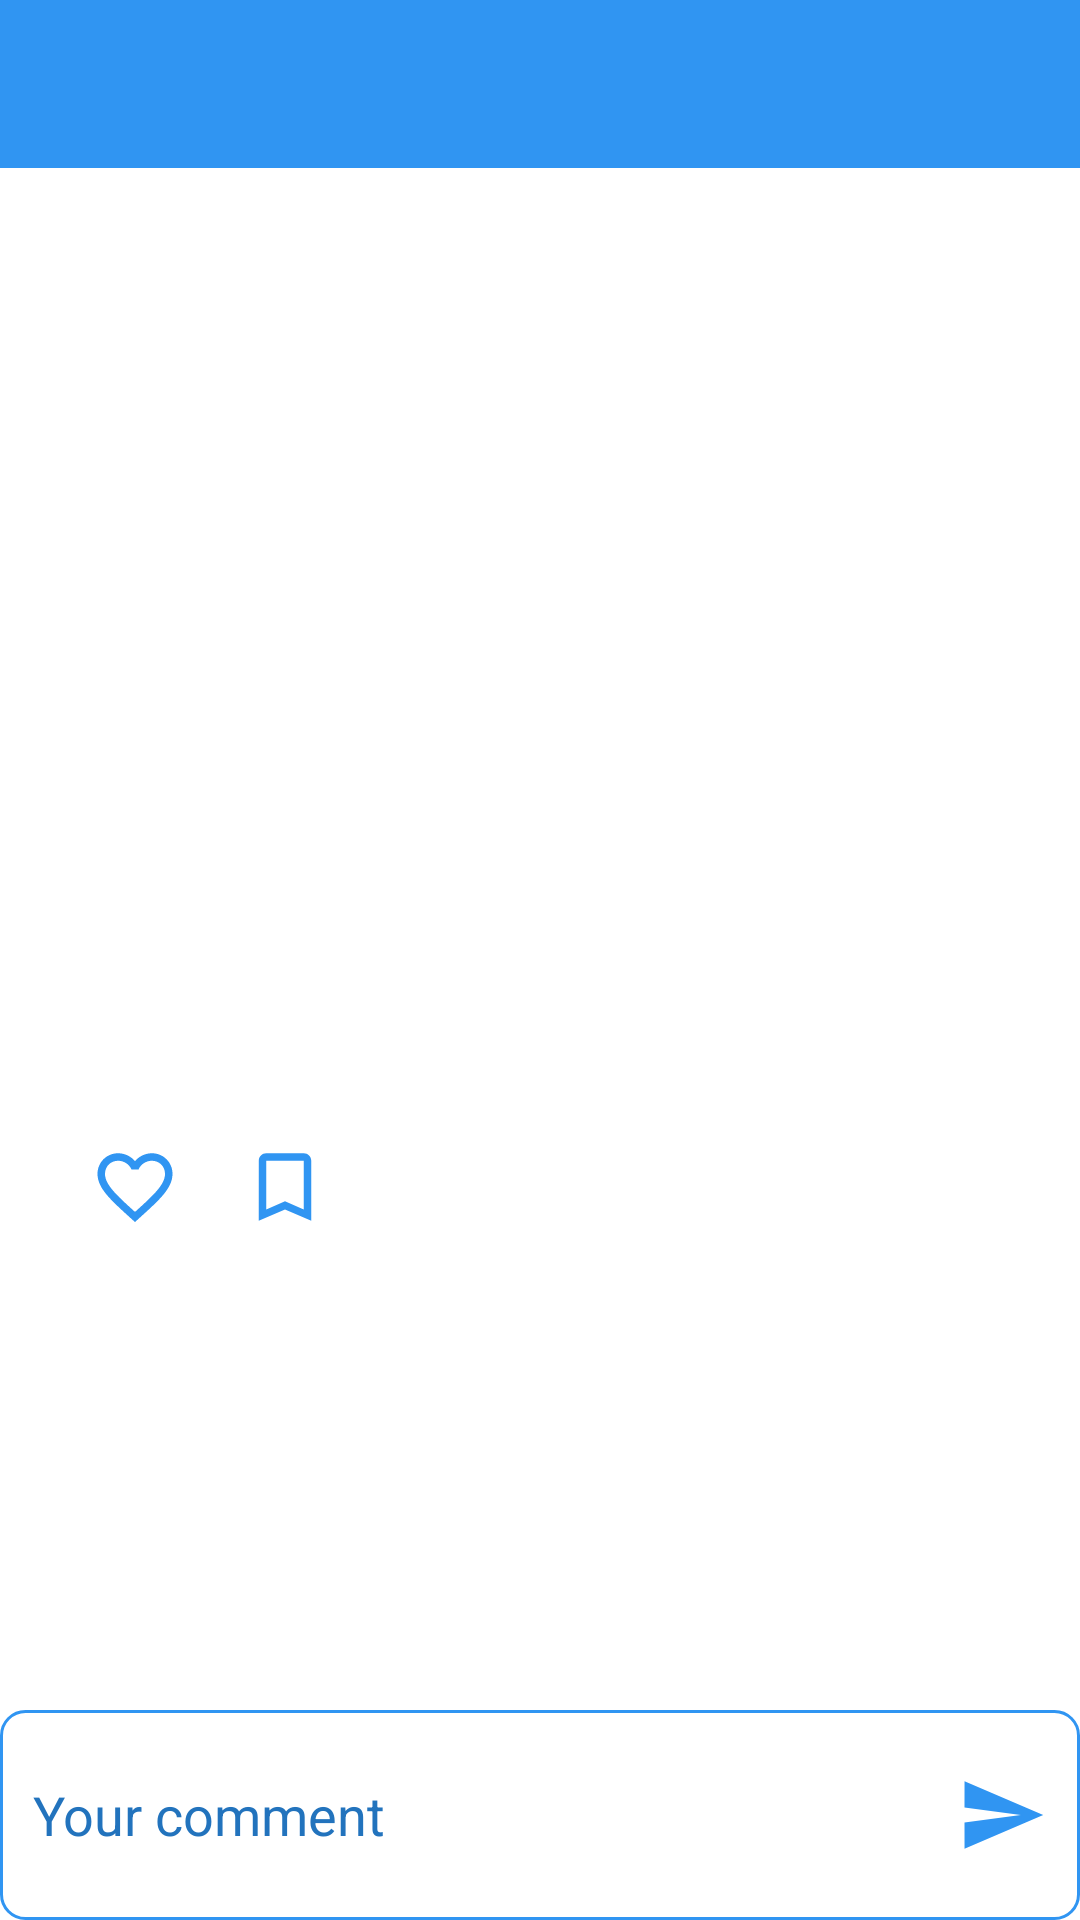

Where icons sit on this 1080px×1920px app screen, as (x1, y1, x2, y2):
bookmark: (258, 1153, 312, 1221)
like: (97, 1153, 173, 1222)
send: (964, 1781, 1043, 1849)
